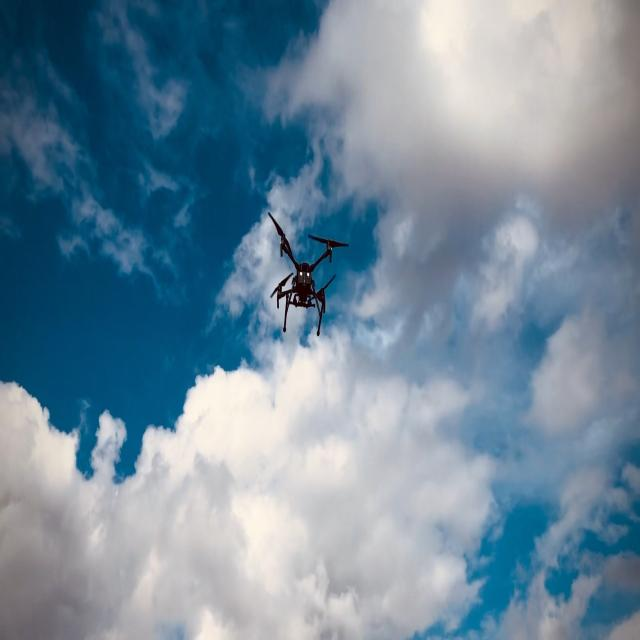drone: (266, 210, 349, 336)
